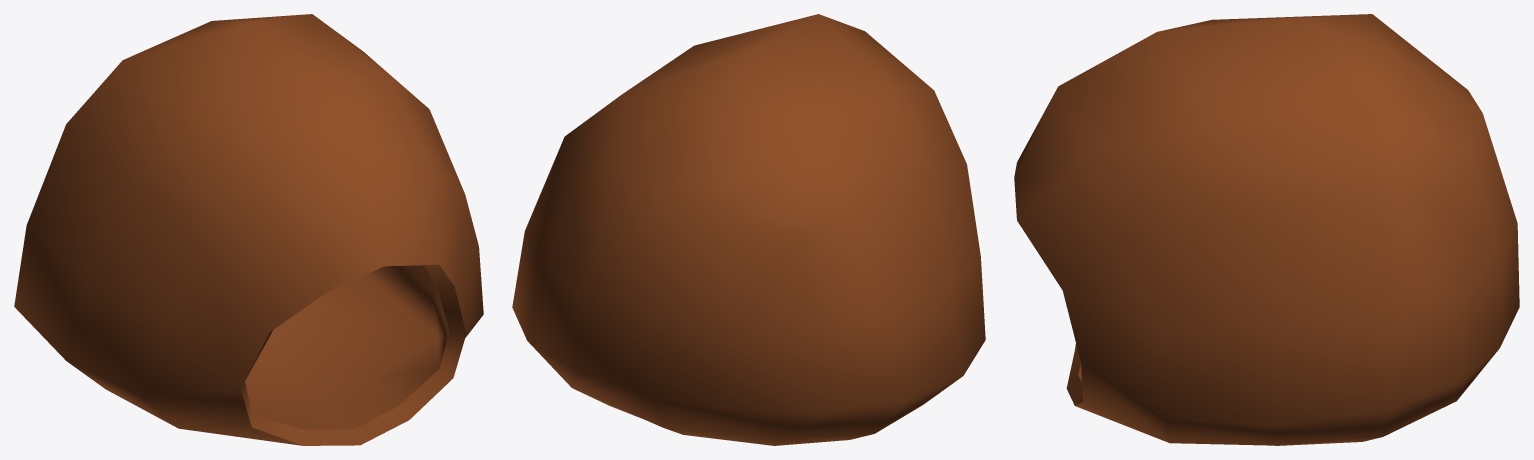
The model's file is Headgear_49.fbx.
3 renders of one model, left to right at view 1: azimuth 30°, elevation 25°; view 2: azimuth 150°, elevation 25°; view 3: azimuth 270°, elevation 25°, orthographic. The views are drawn at different scales.
Parts seen in each view (by area): view 1: Headgear_49; view 2: Headgear_49; view 3: Headgear_49.
Part boxes in pixels (x1,y1,x2,y2): Headgear_49: (14,14,483,445); Headgear_49: (512,14,985,445); Headgear_49: (1014,14,1519,445).
Bounding box in the file's own units: 73.56 × 65.95 × 76.09.
